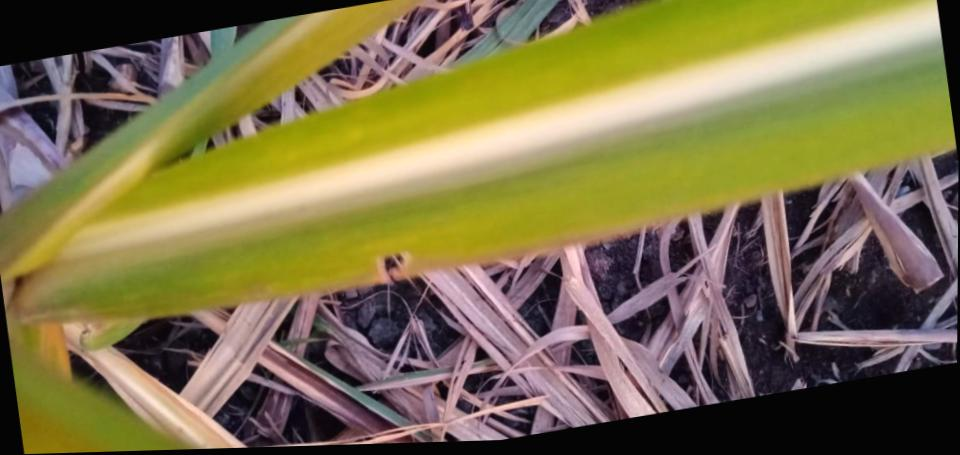Yellow: (11, 82, 767, 309), (87, 61, 683, 221)
